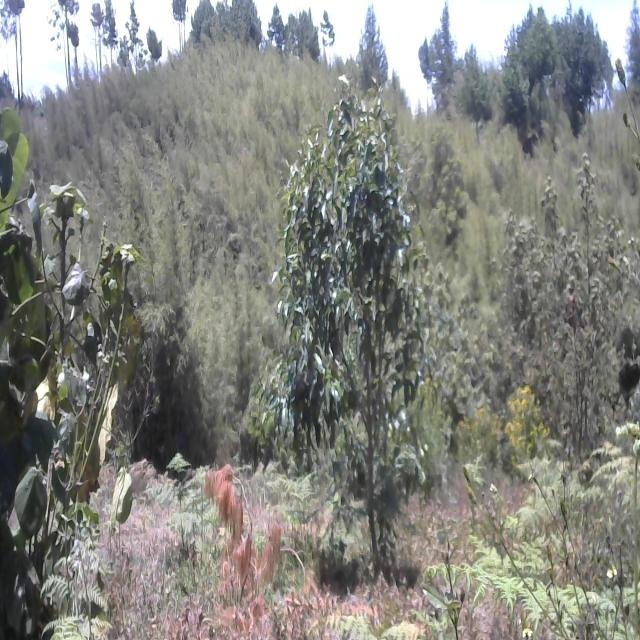Hass Avocado: (264, 78, 454, 630)
cedrus: (354, 9, 394, 80)
other: (0, 89, 168, 640), (508, 166, 639, 449)
